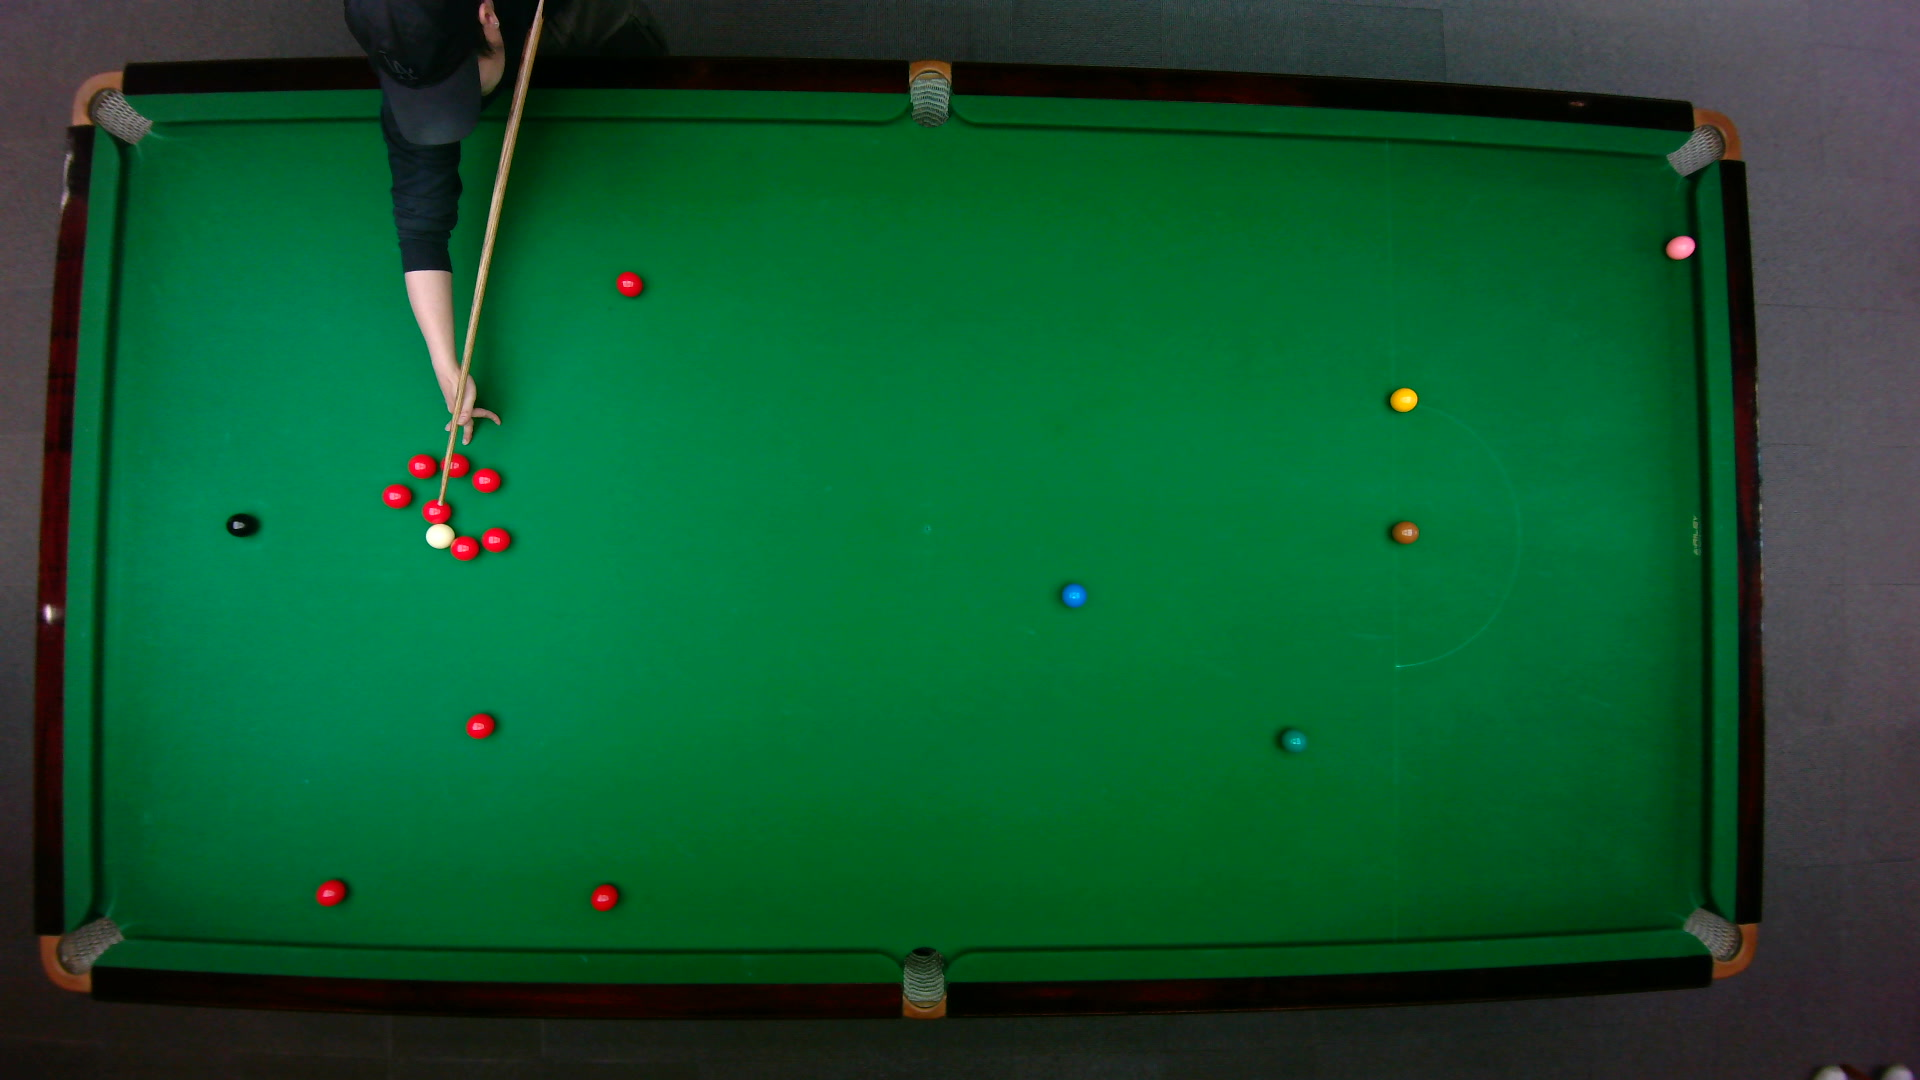bag: (37, 913, 125, 992), (67, 69, 153, 145), (1679, 905, 1756, 978), (1663, 107, 1741, 177), (901, 944, 944, 1021), (909, 55, 949, 128)
black: (223, 512, 257, 538)
blue: (1059, 580, 1087, 608)
brown: (1390, 520, 1419, 545)
cue: (435, 0, 551, 506)
green: (1278, 727, 1308, 753)
pink: (1663, 232, 1697, 260)
red: (314, 877, 347, 907), (479, 525, 512, 553), (613, 268, 644, 297), (463, 711, 495, 738), (419, 497, 452, 524), (589, 882, 618, 911), (448, 534, 480, 560), (469, 465, 501, 492), (406, 451, 436, 477), (380, 483, 411, 508), (440, 451, 469, 477)
white: (425, 522, 455, 549)
yellow: (1389, 385, 1418, 411)
zone: (1390, 400, 1520, 666)
